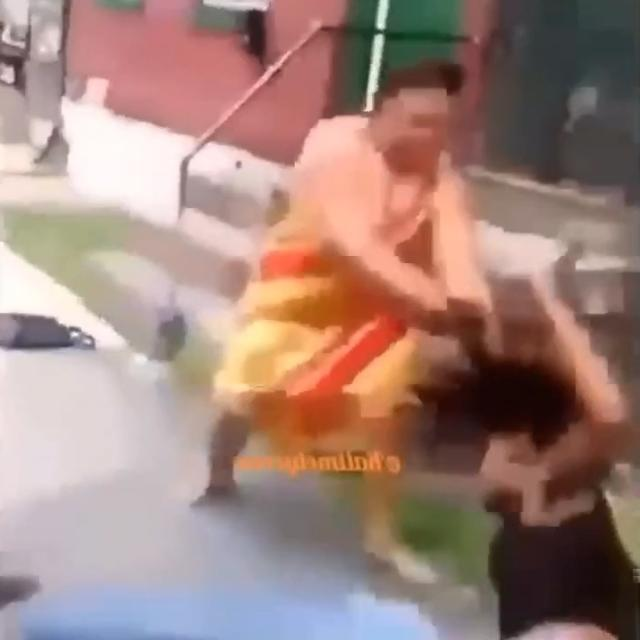violence: (209, 62, 640, 639)
